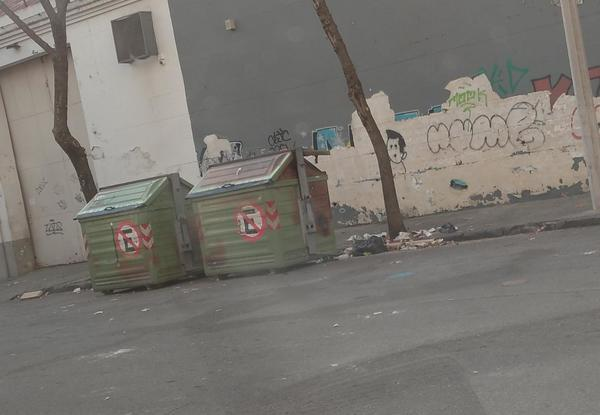Dechets: (345, 231, 444, 256), (411, 223, 458, 238), (19, 287, 43, 302), (72, 284, 84, 295)
Trash: (186, 151, 336, 277), (75, 173, 201, 292)
